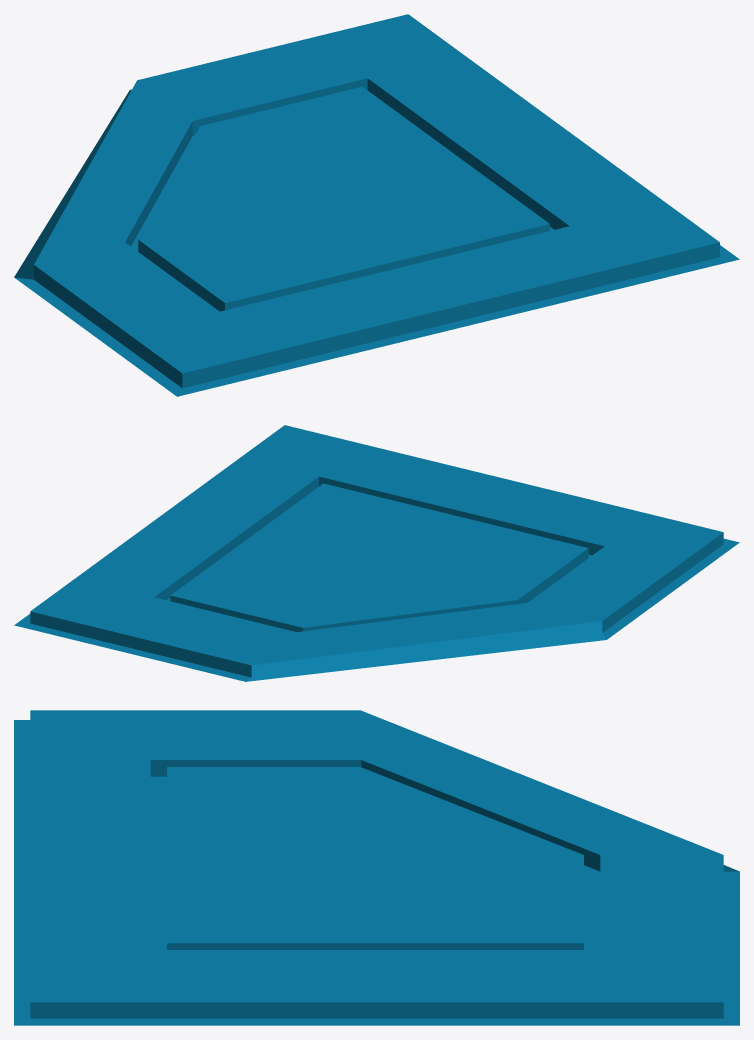
The model's file is Floor4.fbx.
3 views of the same model, one above another, from view 1: azimuth 30°, elevation 25°; view 2: azimuth 150°, elevation 25°; view 3: azimuth 270°, elevation 25° (orthographic). The views are drawn at different scales.
Parts seen in each view (by area): view 1: fLOOR.005; view 2: fLOOR.005; view 3: fLOOR.005.
Boxes of the visible parts, x1,y1,x2,y2 form: fLOOR.005: (14, 14, 739, 396); fLOOR.005: (14, 425, 739, 681); fLOOR.005: (14, 710, 739, 1025).
Size of the model in its own units: 118 by 2.99 by 119.
